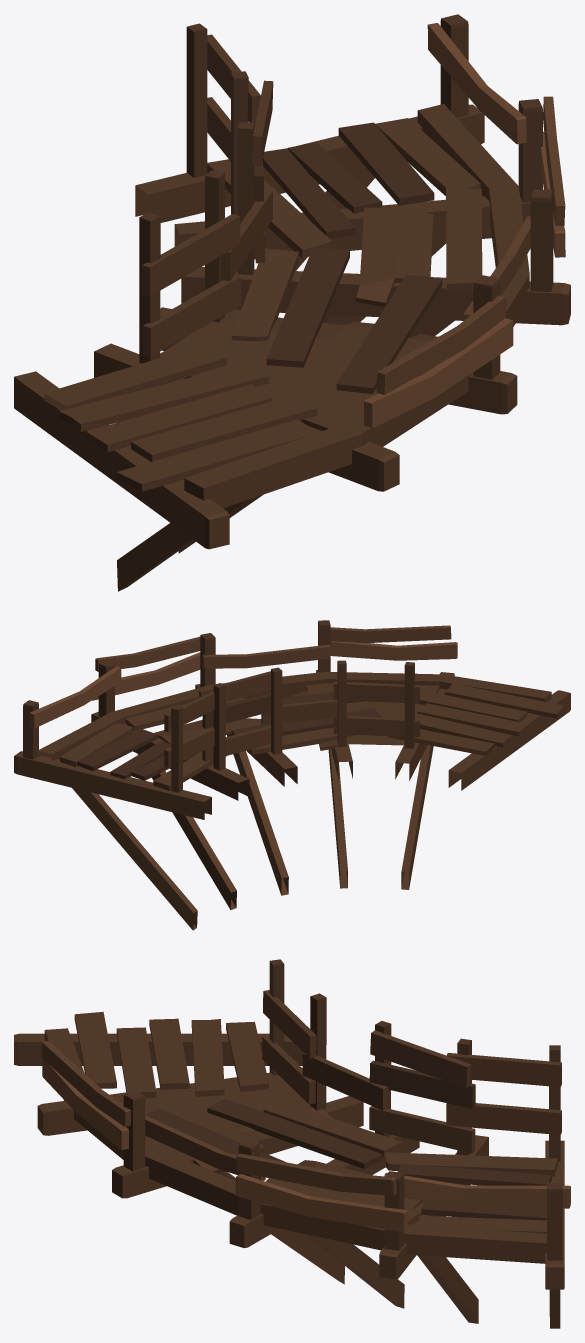
Rendered from Walkway_Corner.fbx.
The picture shows the model from 3 angles, top to bottom: view 1: azimuth 30°, elevation 25°; view 2: azimuth 150°, elevation 25°; view 3: azimuth 270°, elevation 25°; orthographic projection. The views are drawn at different scales.
Parts seen in each view (by area): view 1: Walkway_Corner; view 2: Walkway_Corner; view 3: Walkway_Corner.
Boxes of the visible parts, x1,y1,x2,y2 form: Walkway_Corner: (14,14,570,591); Walkway_Corner: (14,620,570,930); Walkway_Corner: (14,959,570,1328).
Size of the model in its own units: 11.43 by 6.37 by 10.98.
